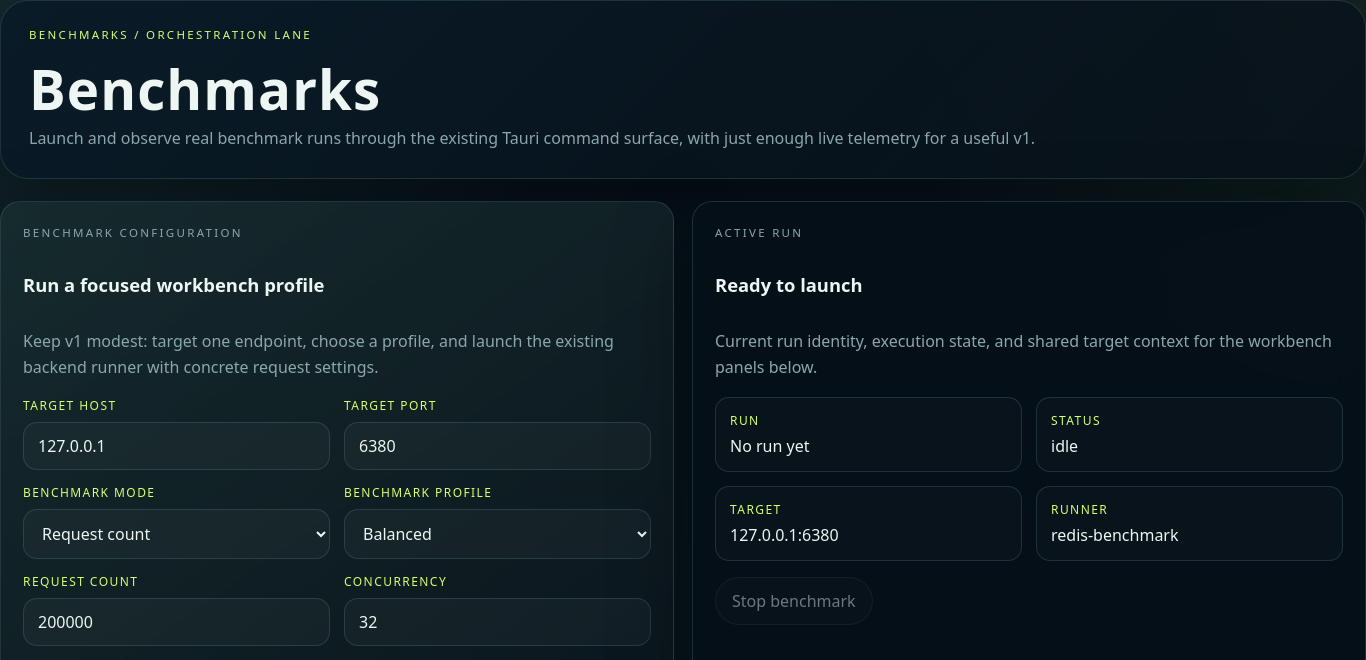
it: benchmarks page › validates required benchmark fields before invoking the backend
Clear the field labelled "Target host" at (176, 446), box [23, 422, 330, 470]
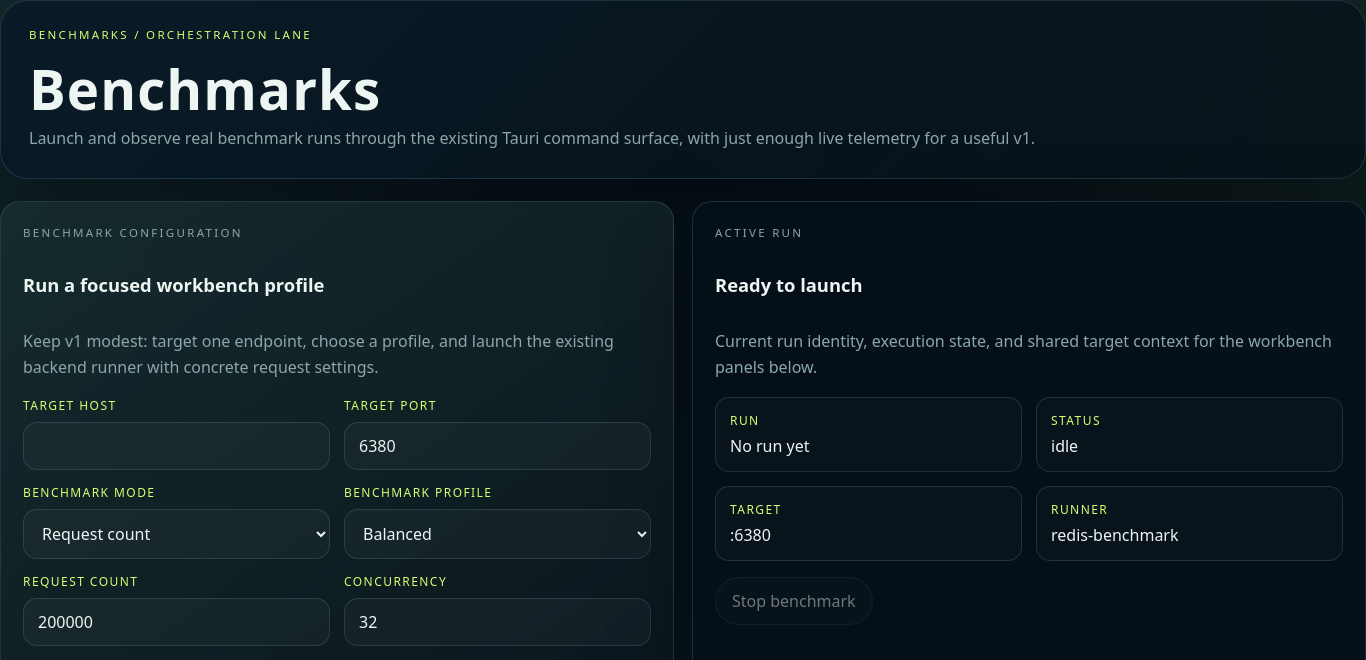
Replace the text in the field labelled "Request count" with "0" at (176, 622), box [23, 598, 330, 646]
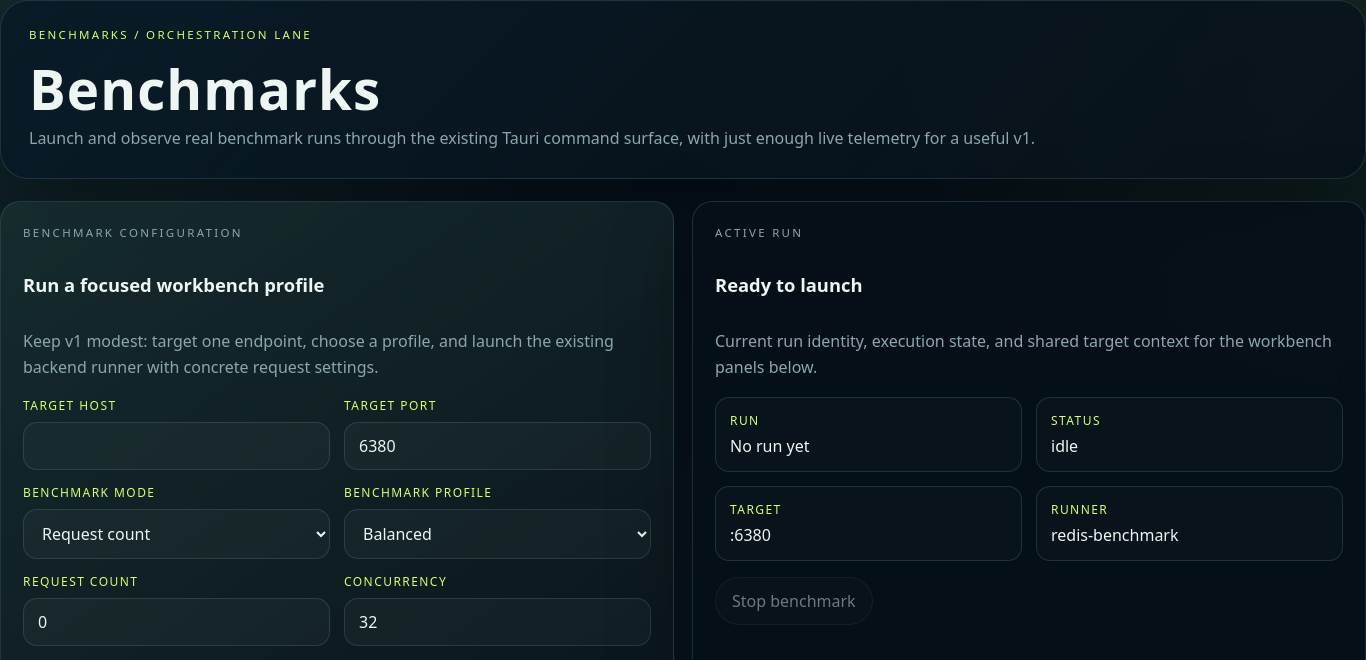
Replace the text in the field labelled "Concurrency" with "0" at (498, 622), box [344, 598, 651, 646]
(page scrolled)
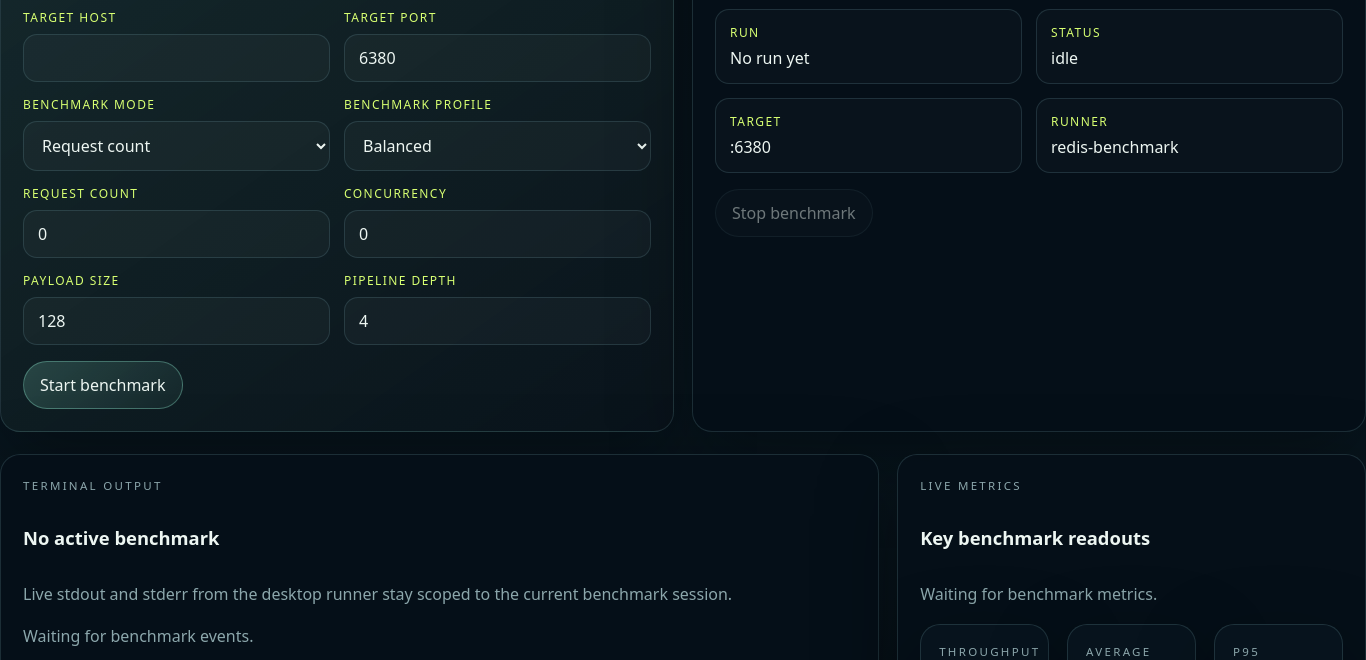
Click the button "Start benchmark" at (103, 385), box [23, 361, 182, 409]
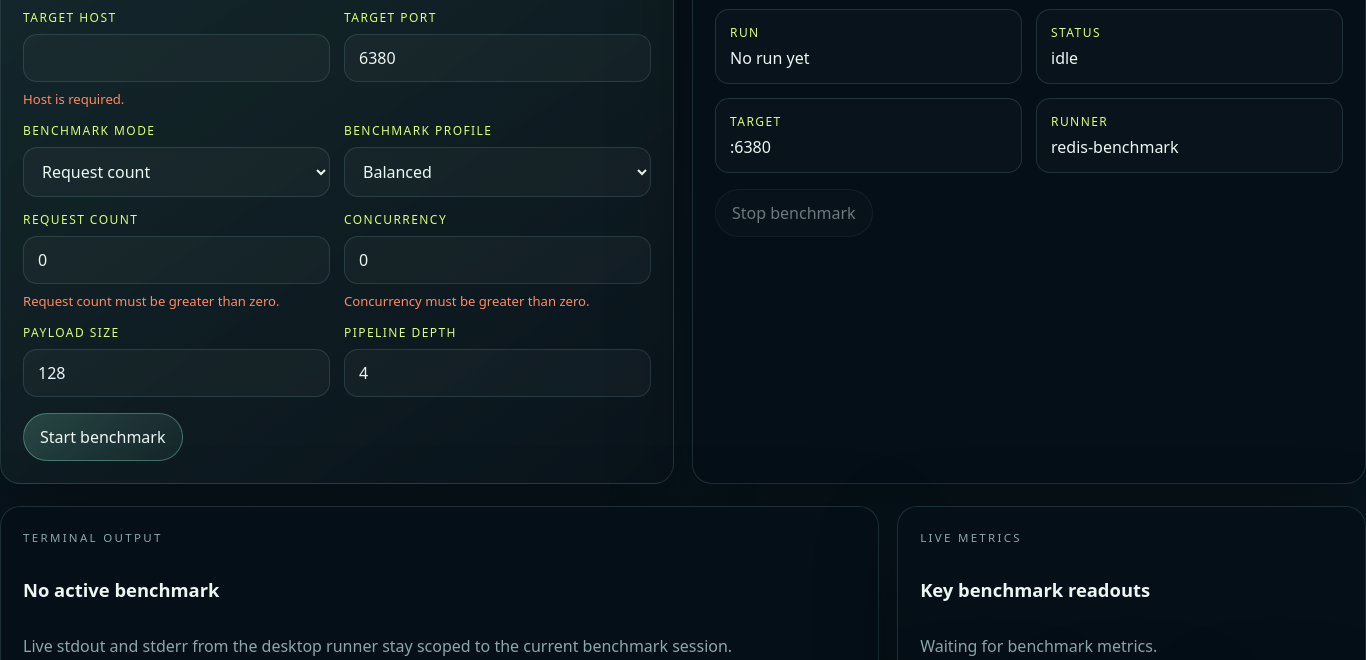
Now the text "Host is required." is shown, box [23, 90, 124, 108]
Now the text "Request count must be greater than zero." is shown, box [23, 292, 280, 310]
Now the text "Concurrency must be greater than zero." is shown, box [344, 292, 590, 310]
